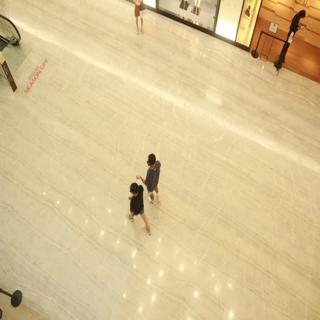person: (118, 175, 155, 233), (144, 151, 168, 212)
